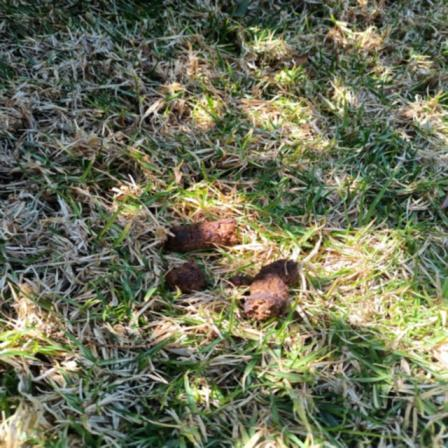dog-poop: (163, 216, 304, 318)
